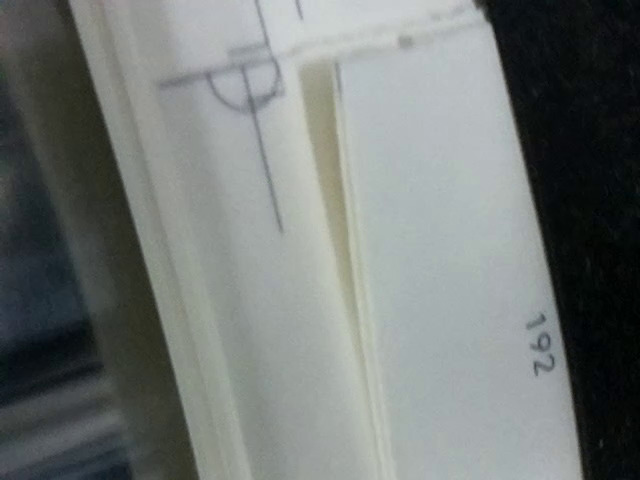misaligned: (160, 0, 320, 128)
